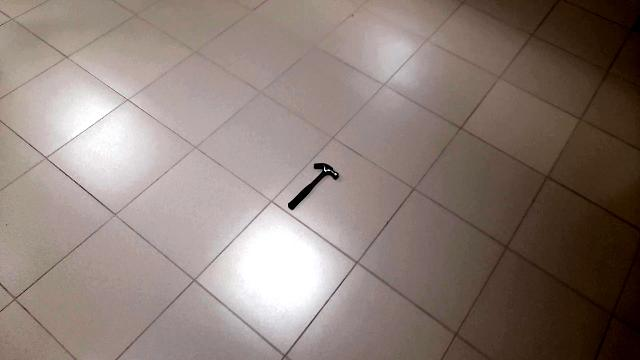hammer: (286, 150, 340, 214)
